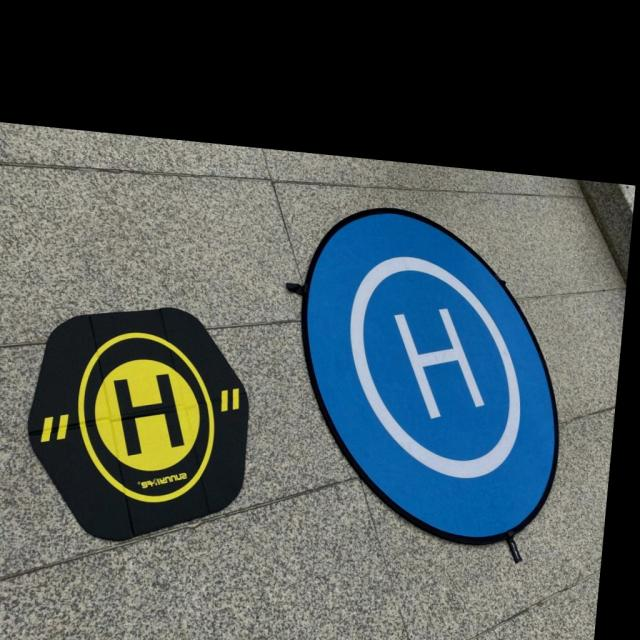helipad: (344, 250, 525, 483), (75, 328, 217, 504)
